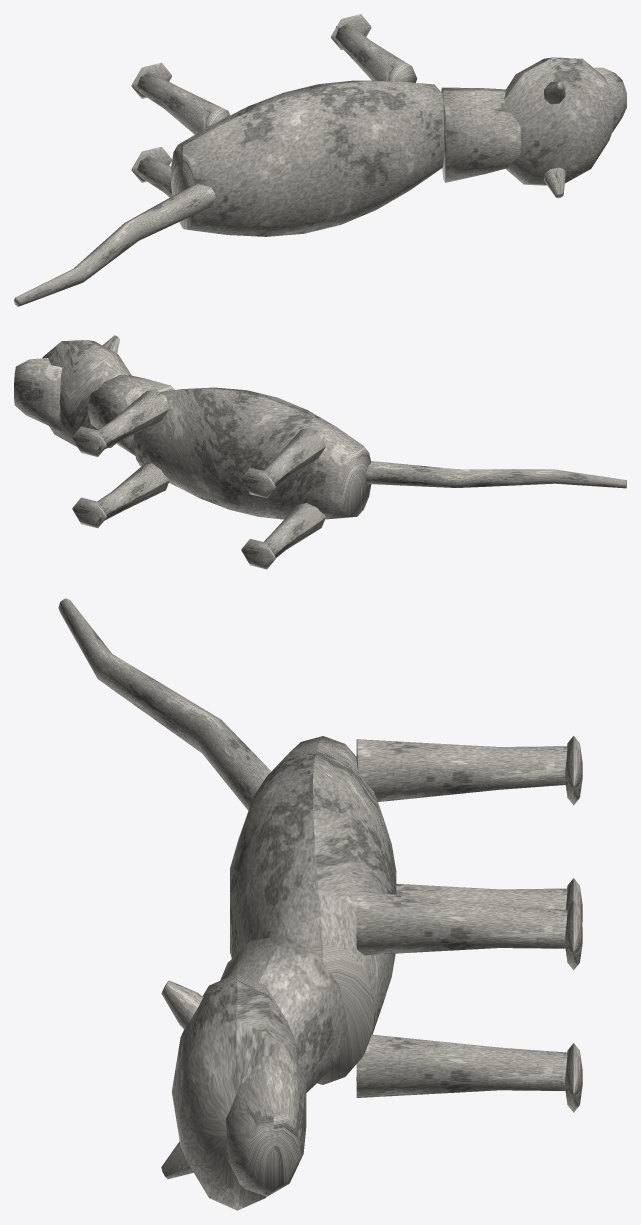
The model's file is cat.obj.
3 views of the same model, one above another, from view 1: azimuth 30°, elevation 25°; view 2: azimuth 150°, elevation 25°; view 3: azimuth 270°, elevation 25° (orthographic). The views are drawn at different scales.
Parts seen in each view (by area): view 1: cat; view 2: cat; view 3: cat.
Boxes of the visible parts, box(x1,y1,x2,y2) form: cat: box(14, 14, 626, 306); cat: box(14, 335, 626, 569); cat: box(58, 598, 582, 1210).
Size of the model in its own units: 0.6966 by 0.1386 by 0.2804.
Materials: 1 (1 with a texture image).
